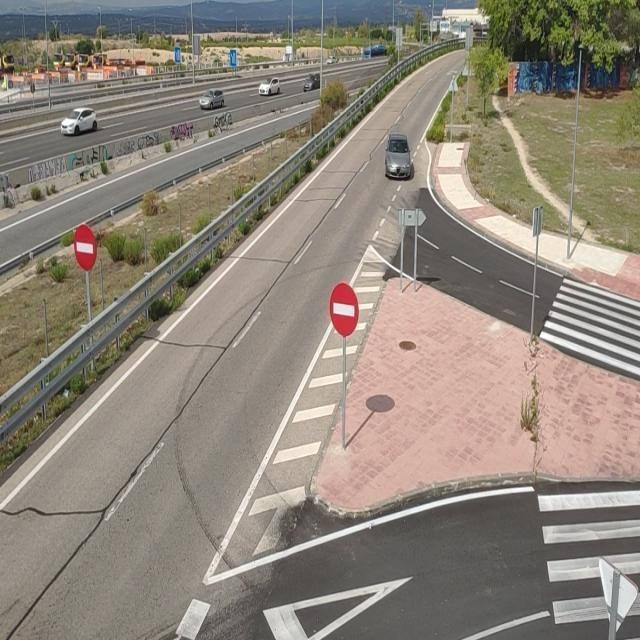Bus: (362, 44, 388, 58)
Car: (384, 133, 412, 181), (61, 108, 98, 136), (198, 89, 224, 110), (258, 76, 280, 96), (303, 72, 321, 91)
Truck: (91, 54, 133, 72), (0, 50, 15, 72), (76, 53, 95, 70), (62, 53, 82, 69), (52, 53, 65, 69)
